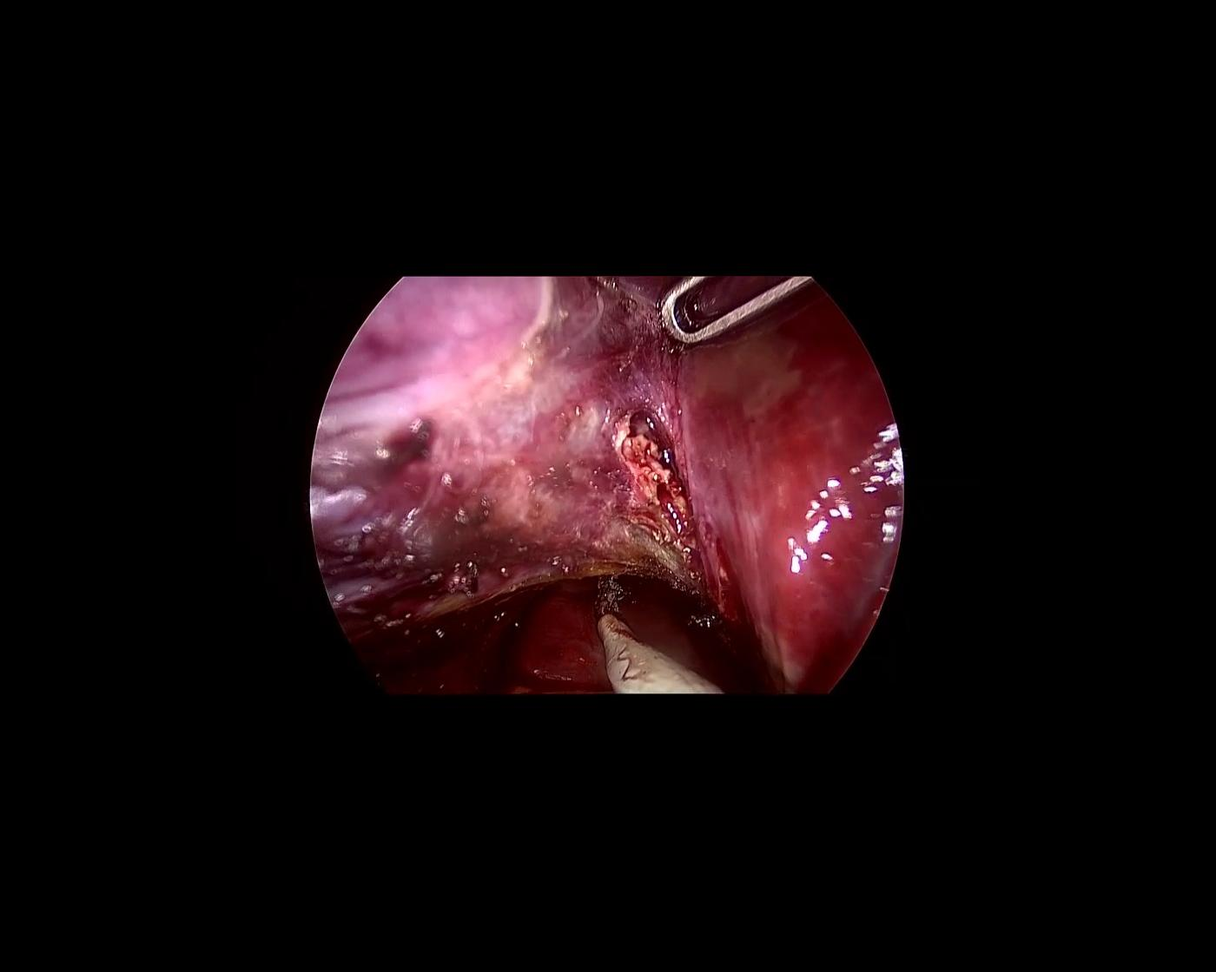Cautery: (549, 568, 724, 747)
Forceps: (642, 225, 811, 353)
Gallbladder: (305, 276, 614, 638)
Liver: (661, 279, 925, 705)
